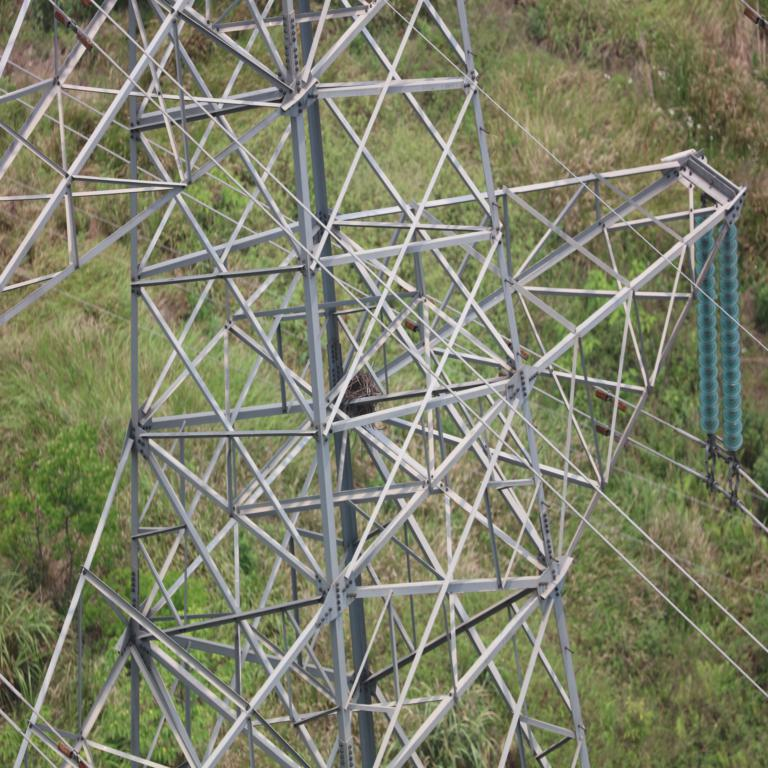nest: (345, 373, 374, 415)
